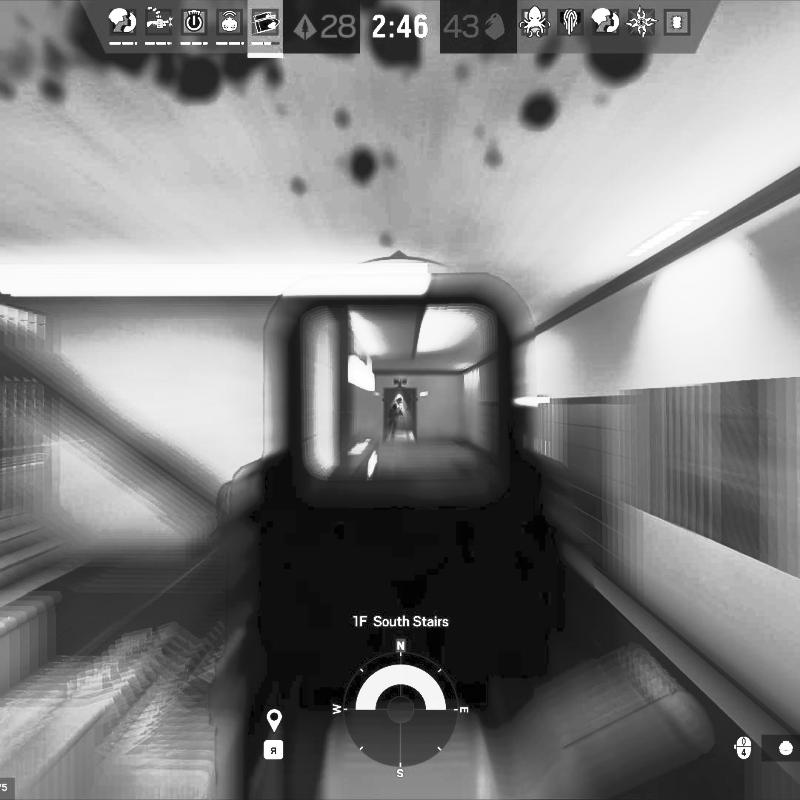Character: (387, 403, 400, 439)
Head: (392, 403, 398, 410)
